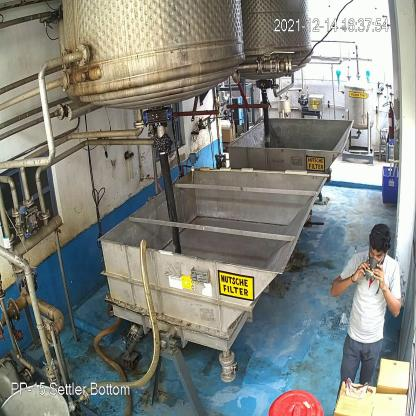mask: (365, 256, 381, 281)
no_goggles: (362, 243, 390, 263)
